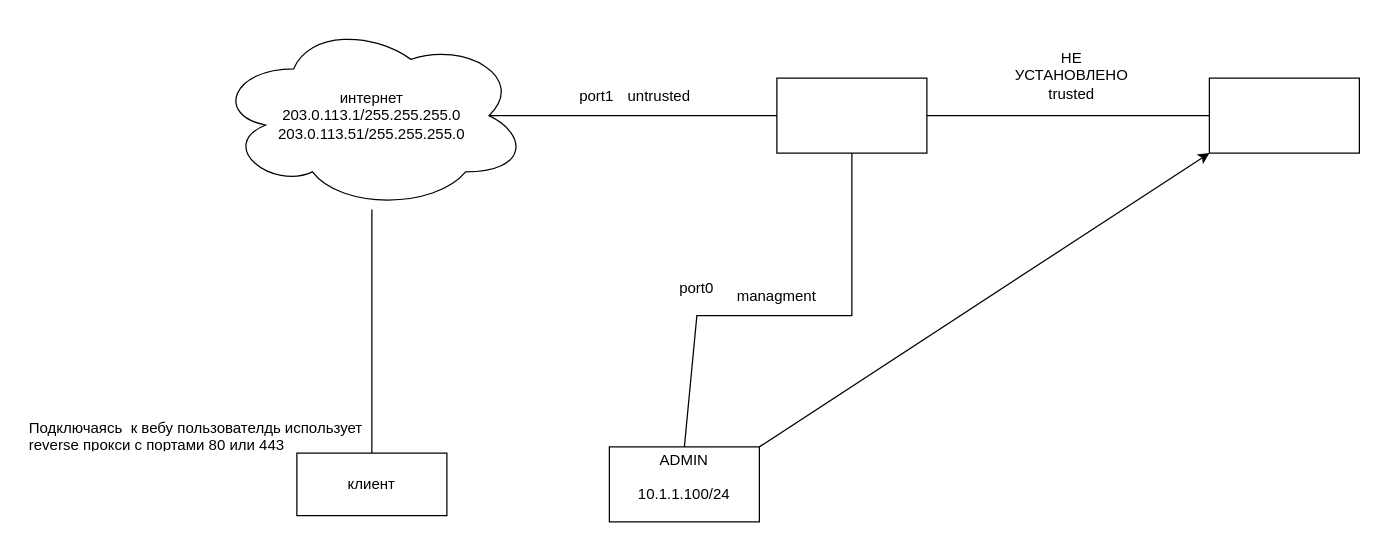
Image size: 1381x544. Some labels were removed from this diagram. Each missing label, with the centre of its shape:
"NGFW 10.1.1.1/24" goes at (x=851, y=115).
"WWW 10.1.1.50/24" goes at (x=1283, y=115).
